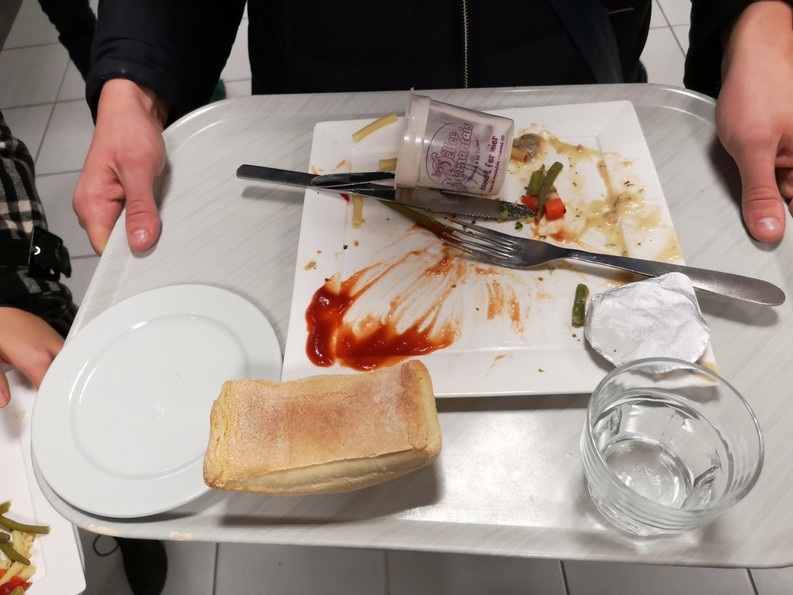cup: (576, 361, 765, 546)
cutlery: (433, 210, 793, 311), (234, 161, 527, 230)
orga: (201, 359, 451, 504), (528, 163, 565, 225)
trash: (593, 262, 720, 393), (386, 91, 523, 204)
